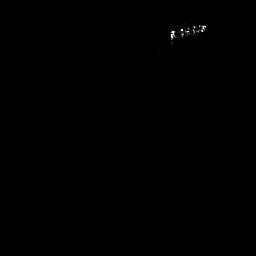ship: (166, 22, 209, 47)
